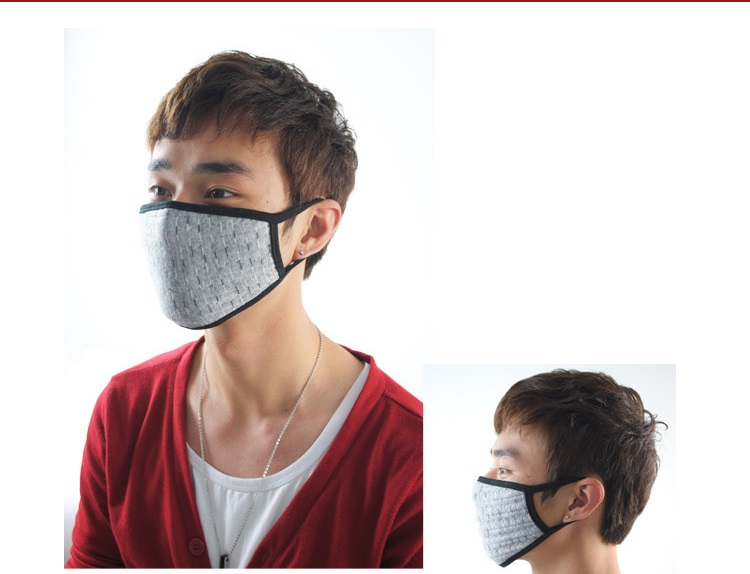face_mask: (146, 111, 290, 331), (473, 409, 559, 565)
